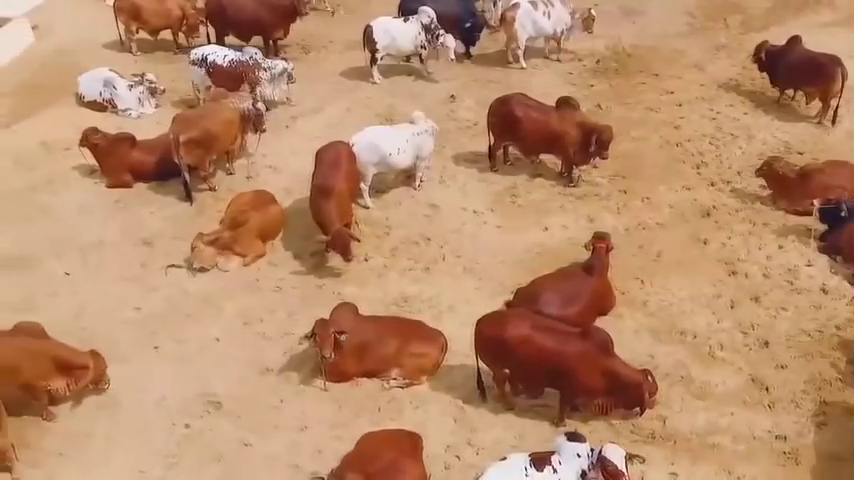bo: (464, 297, 658, 427), (301, 293, 450, 395), (2, 312, 118, 433), (482, 84, 613, 186), (511, 224, 624, 333), (170, 37, 296, 119), (179, 191, 290, 284), (166, 86, 268, 185), (473, 427, 656, 480), (347, 101, 440, 205), (745, 29, 843, 124), (303, 135, 370, 265), (356, 4, 463, 83), (746, 144, 854, 218), (500, 1, 605, 72), (318, 418, 436, 480), (196, 1, 320, 59), (73, 127, 181, 193), (391, 3, 498, 61), (105, 1, 200, 66), (67, 58, 160, 118), (802, 193, 846, 268)
